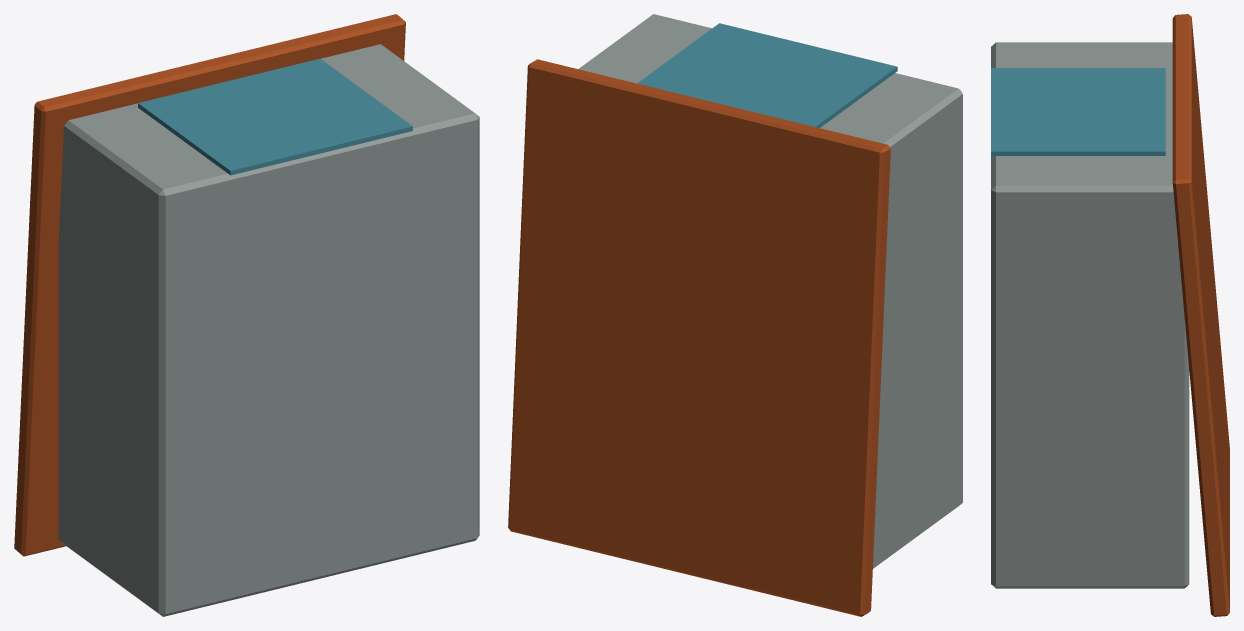
File: barn_a.glb
3 views of the same model, side by side, from view 1: azimuth 30°, elevation 25°; view 2: azimuth 150°, elevation 25°; view 3: azimuth 270°, elevation 25° (orthographic). The views are drawn at different scales.
Parts seen in each view (by area): view 1: shed_body, shed_roof, open_door; view 2: shed_roof, shed_body, open_door; view 3: shed_body, shed_roof, open_door.
Boxes of the visible parts, box(x1,y1,x2,y2) form: shed_body: box(58, 44, 479, 616); shed_roof: box(14, 14, 405, 556); open_door: box(138, 58, 412, 175); shed_roof: box(508, 59, 890, 616); shed_body: box(578, 14, 962, 568); open_door: box(637, 23, 897, 127); shed_body: box(991, 42, 1189, 588); shed_roof: box(1172, 14, 1229, 616); open_door: box(991, 68, 1165, 155).
Bounding box in the file's own units: 5 × 6.09 × 3.01.
